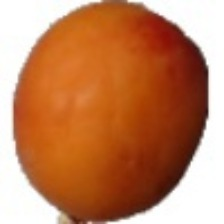apricot: (40, 10, 189, 209)
